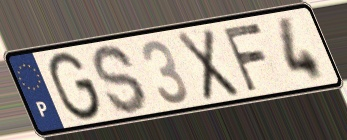3: (140, 38, 189, 106)
4: (279, 14, 327, 83)
F: (219, 20, 268, 94)
G: (47, 50, 105, 123)
S: (90, 42, 150, 116)
X: (173, 26, 243, 104)
